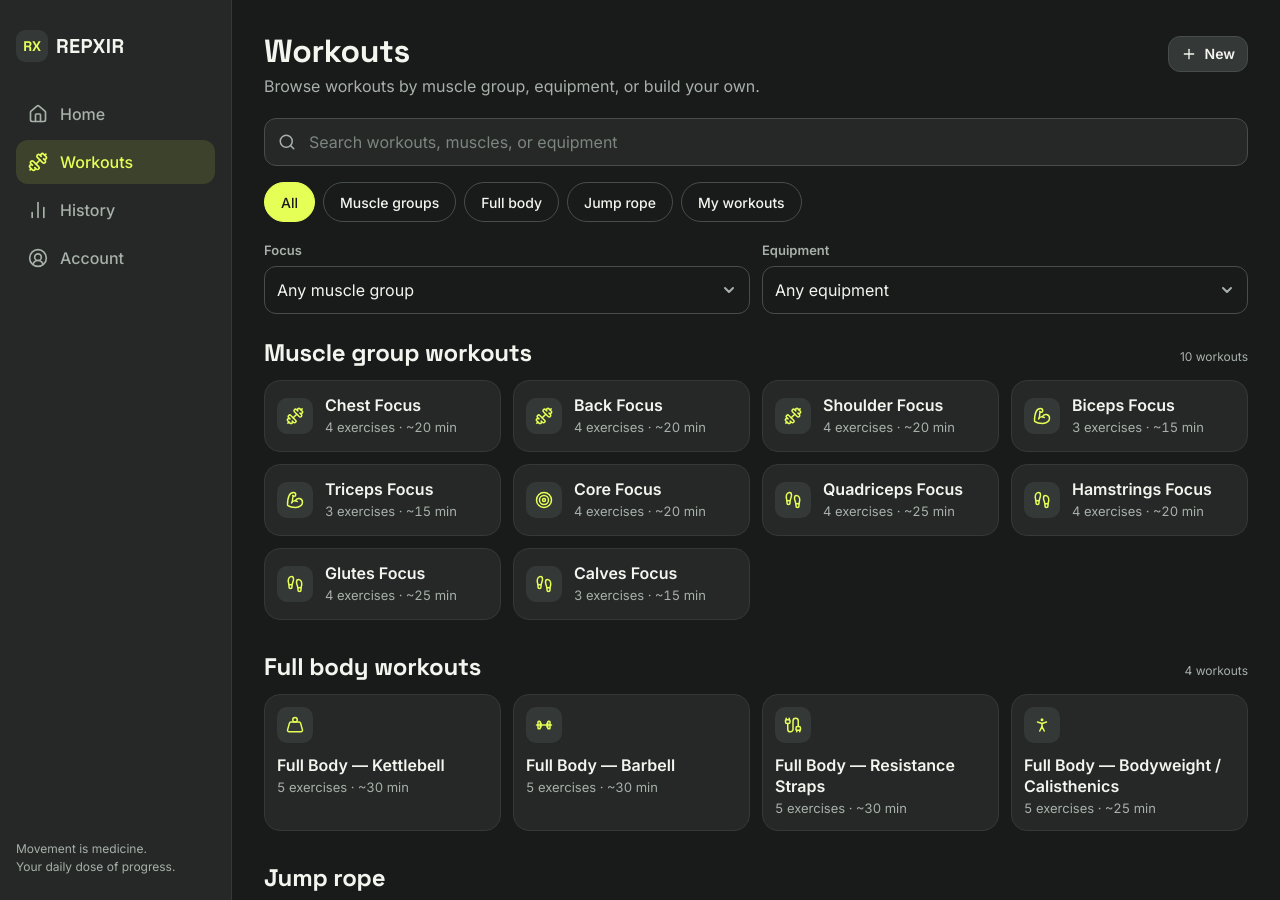
routing › keeps filters in the URL and shows a zero-results state
Type "unicorn press" into the search field at x=756, y=142, box top-left (264, 118), bottom-right (1248, 166)
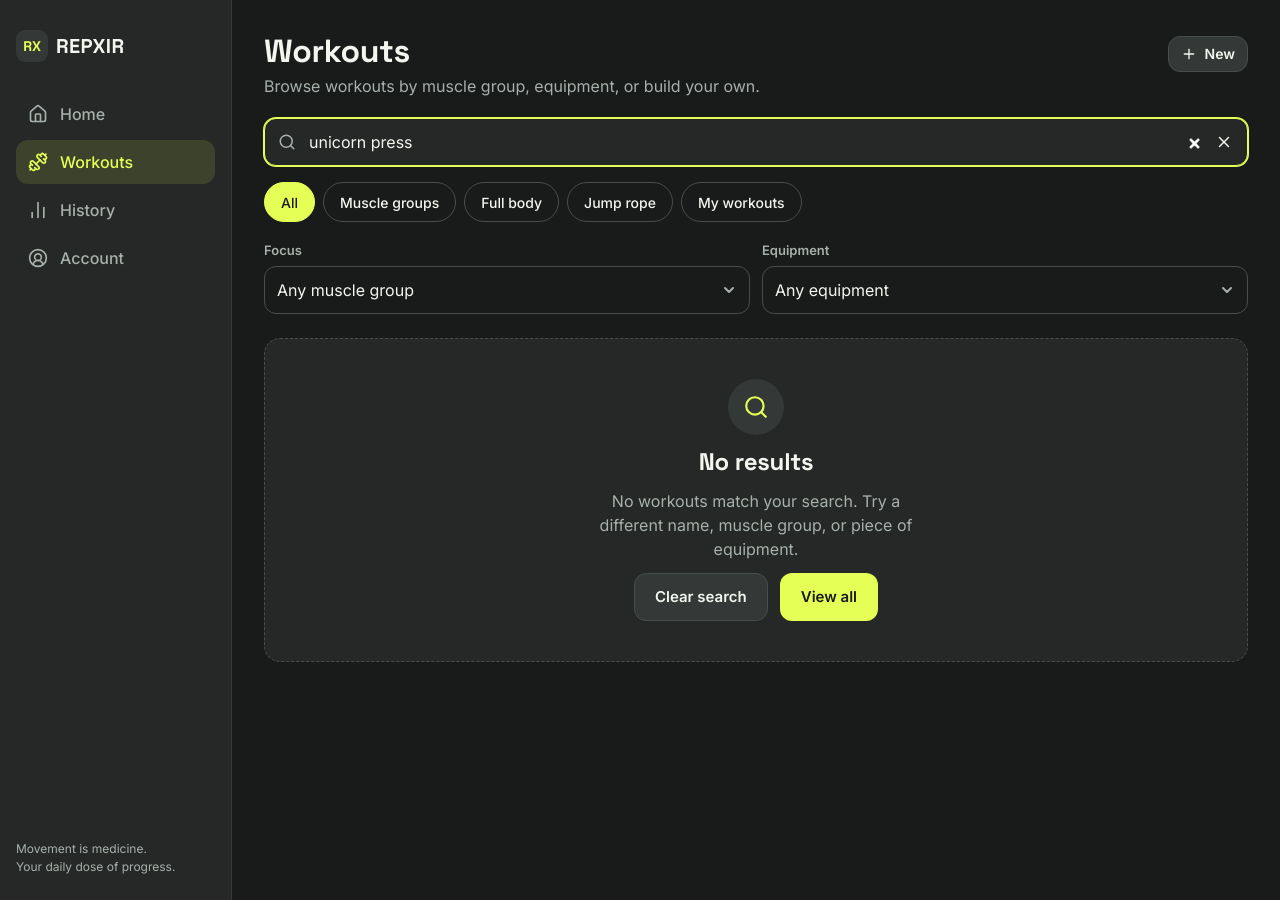
Check: the heading "No results" is shown, box top-left (699, 447), bottom-right (813, 477)
Click the button "View all" at x=829, y=597, box top-left (780, 573), bottom-right (878, 621)
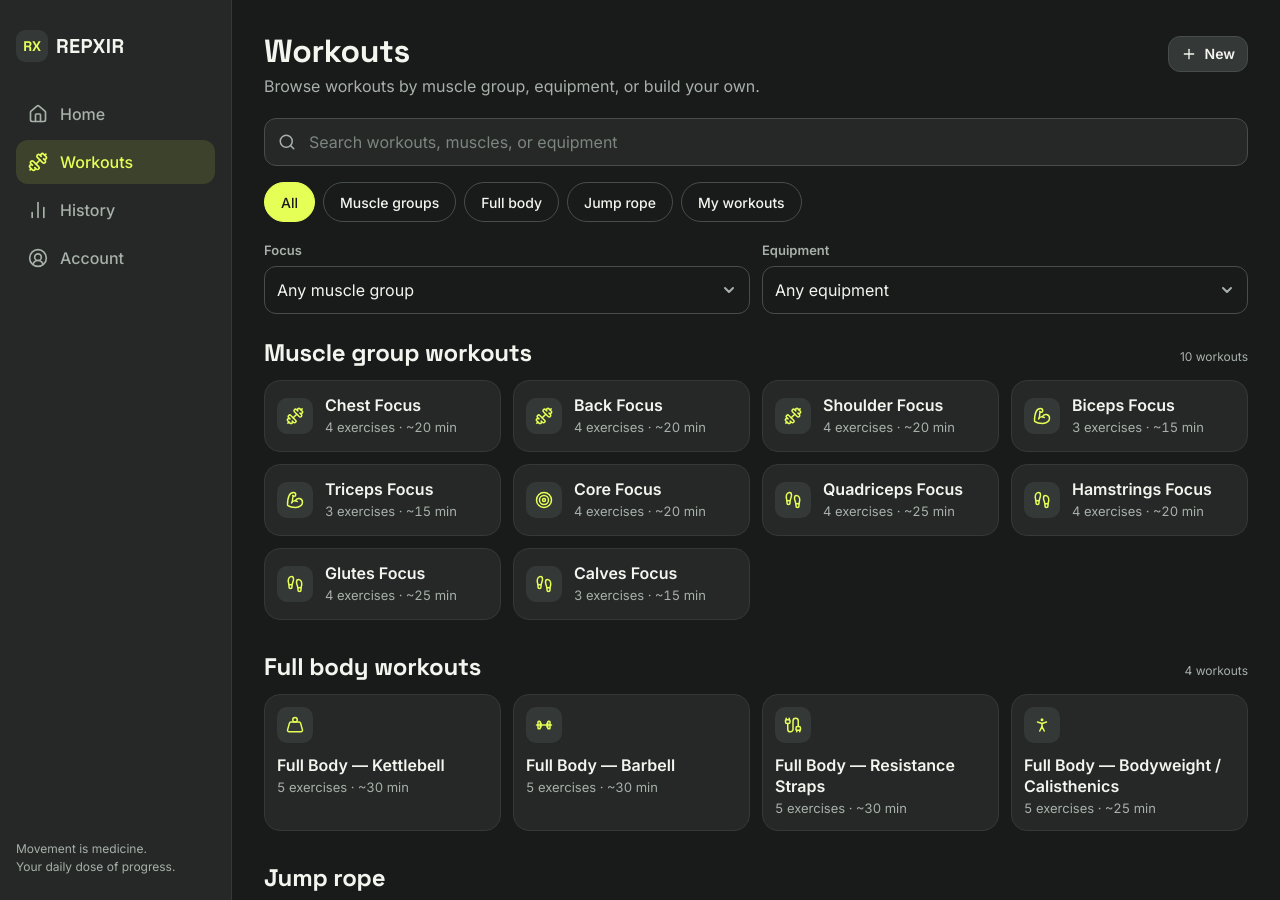
Check: the element "Muscle group workouts" is shown, box top-left (264, 338), bottom-right (1248, 620)
